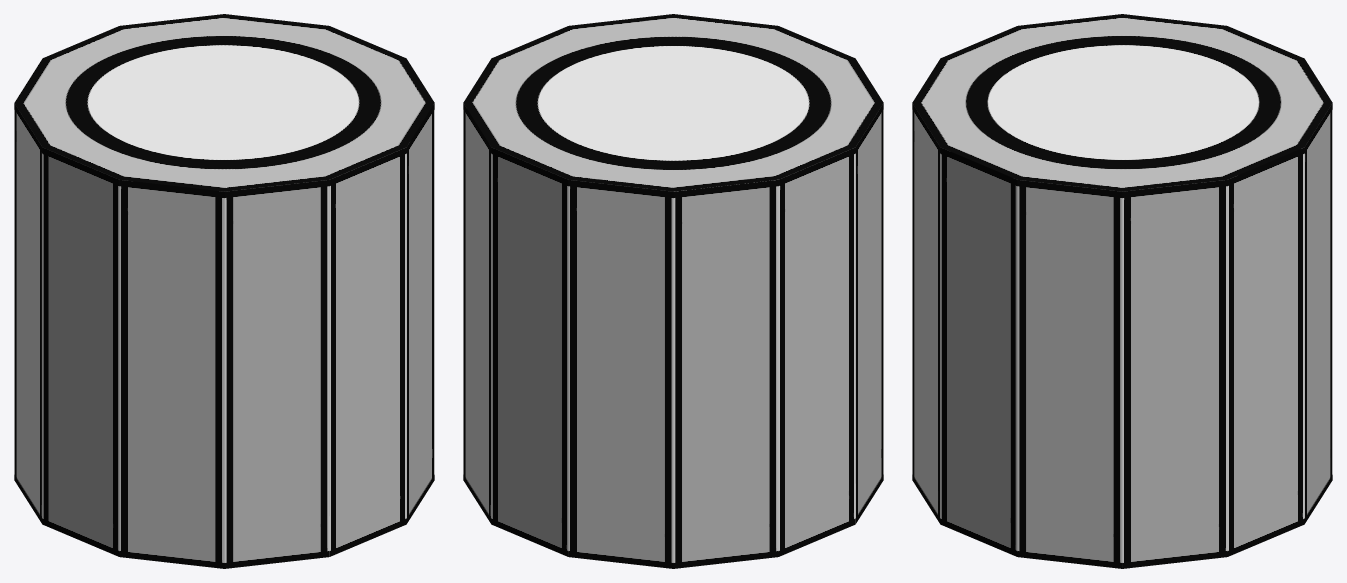
File: Pillar.obj
3 views of the same model, side by side, from view 1: azimuth 30°, elevation 25°; view 2: azimuth 150°, elevation 25°; view 3: azimuth 270°, elevation 25° (orthographic).
Visible parts, largest first — view 1: Pillar; view 2: Pillar; view 3: Pillar.
Boxes of the visible parts, x1,y1,x2,y2 form: Pillar: [14, 14, 434, 568]; Pillar: [463, 14, 883, 568]; Pillar: [912, 14, 1332, 568].
Bounding box in the file's own units: 1 × 0.99 × 1.
